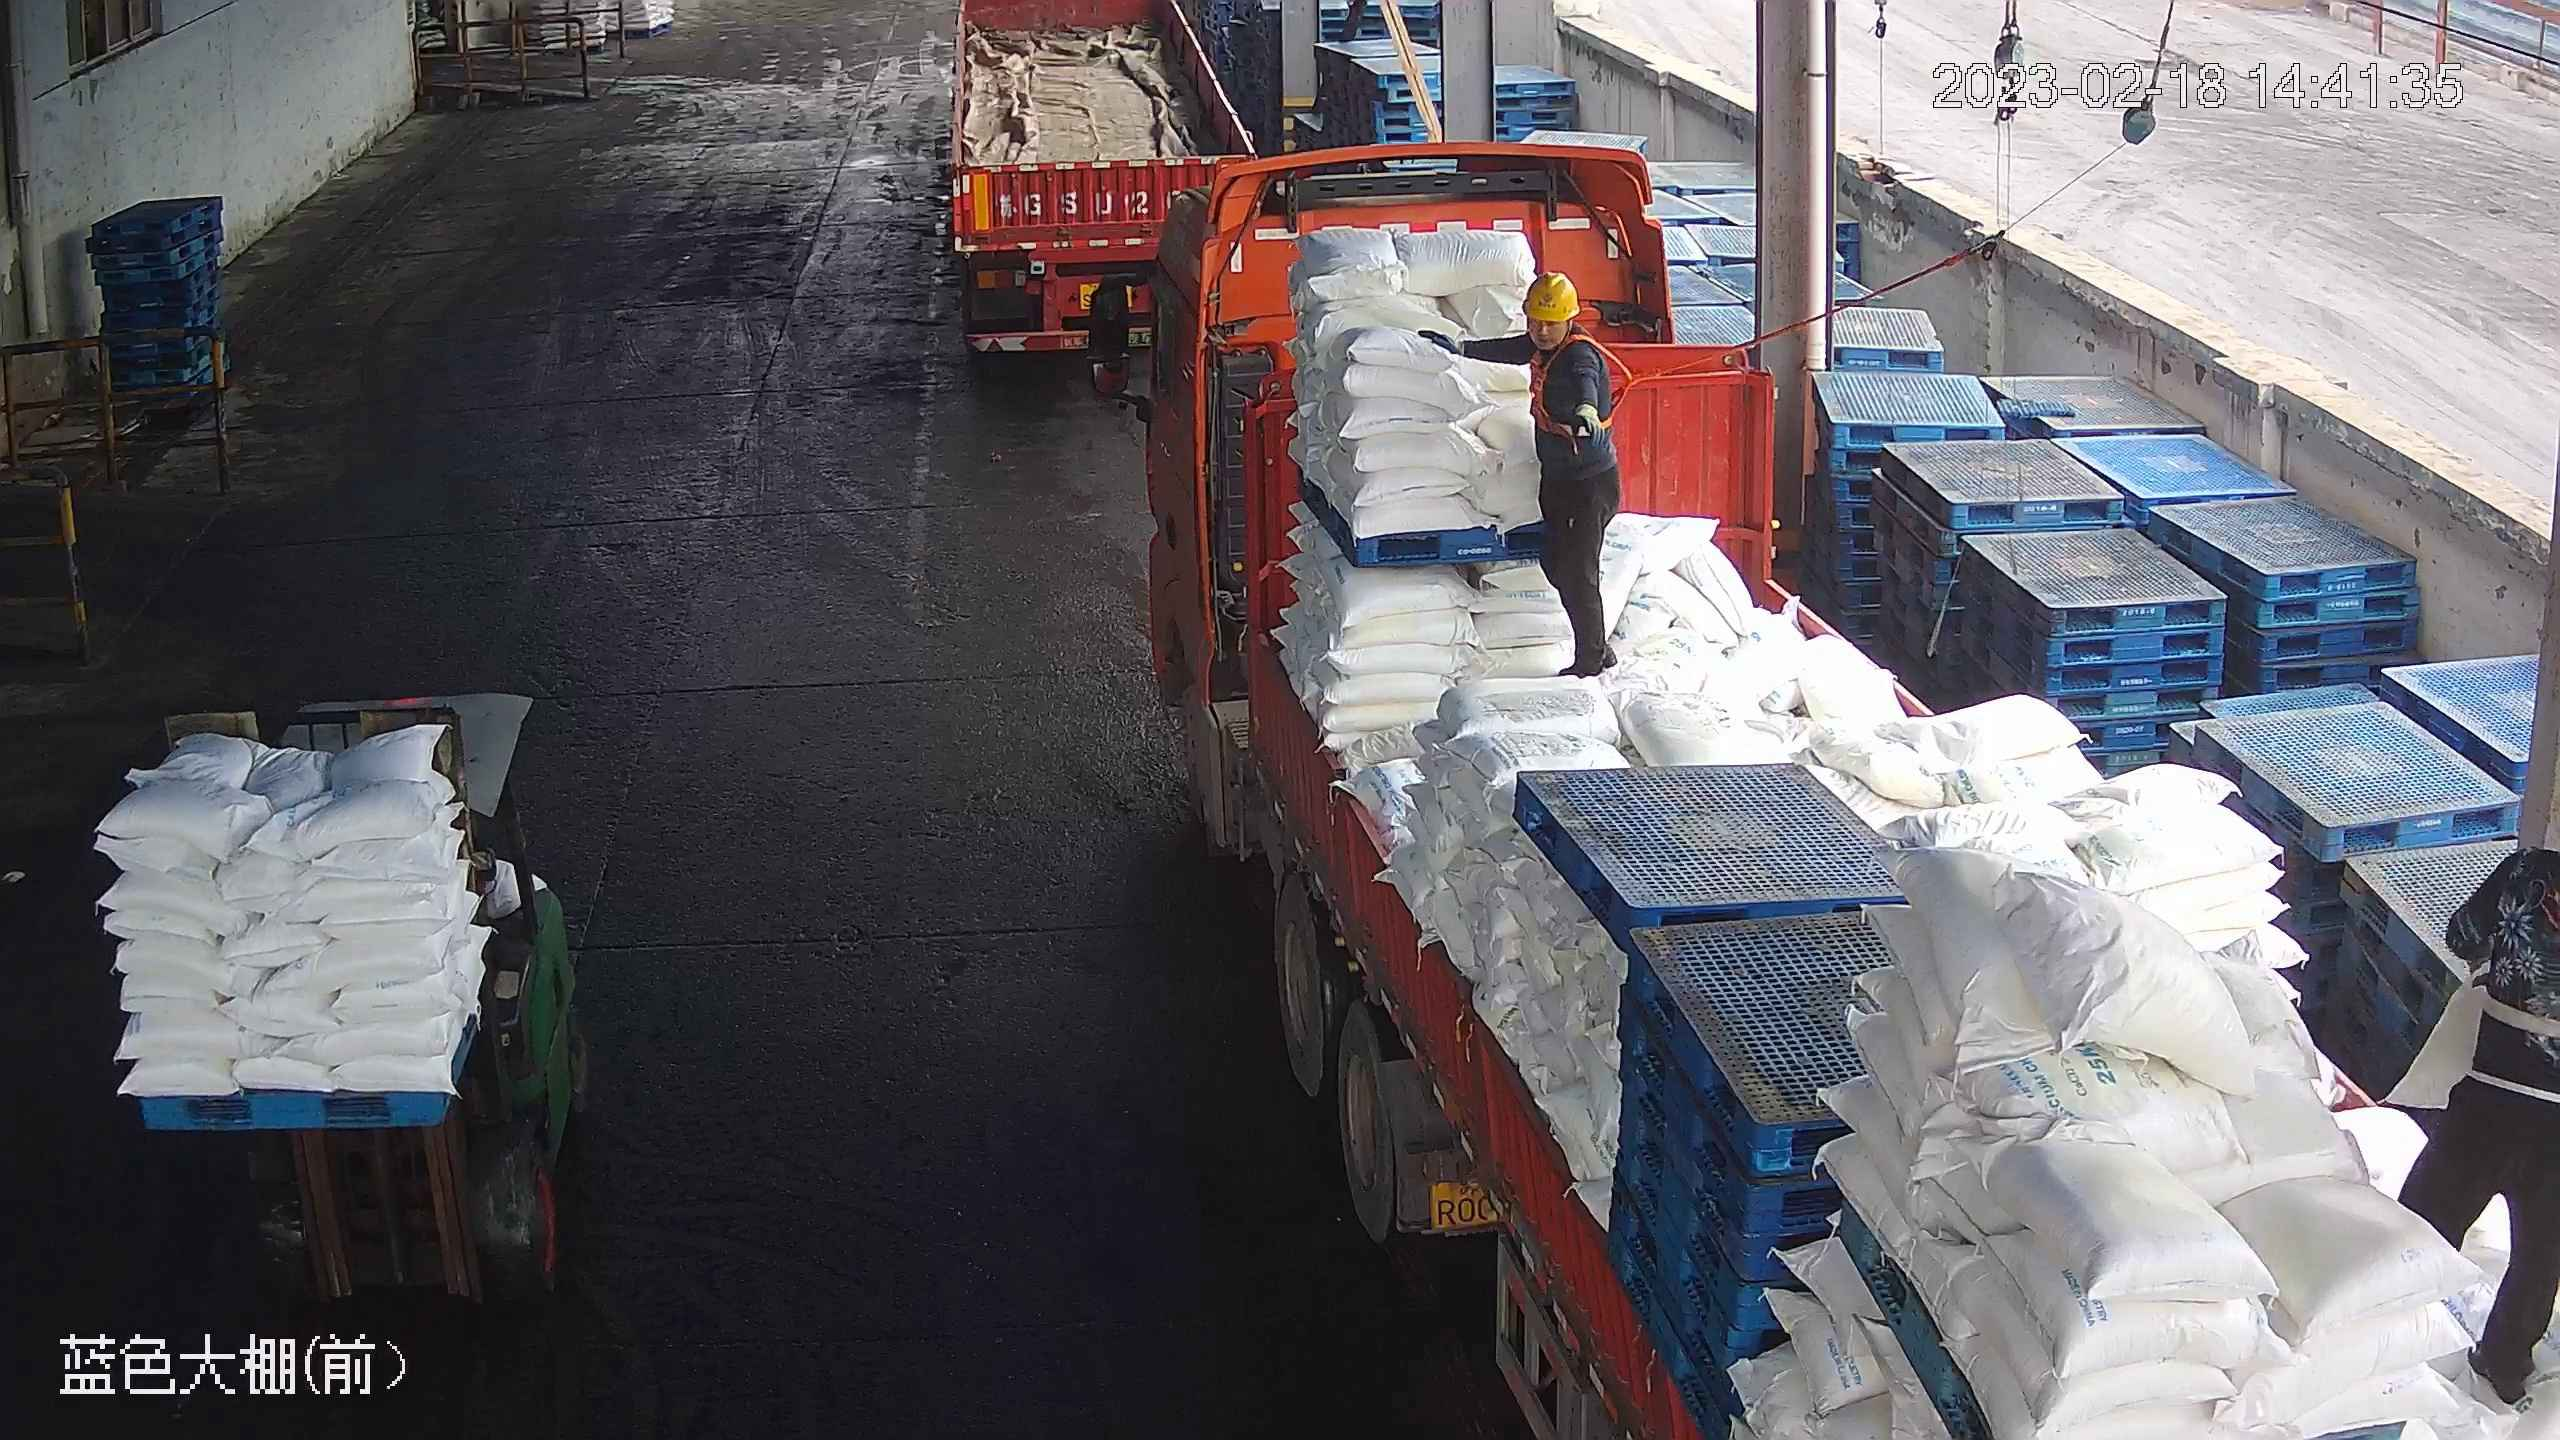belt: (2466, 946, 2559, 1110), (1525, 327, 1633, 439)
head: (1514, 269, 1610, 389)
helmet: (1518, 268, 1582, 324)
people: (2393, 845, 2560, 1406), (1469, 267, 1627, 678)
truck: (1040, 167, 2553, 1440), (948, 3, 1270, 373)
